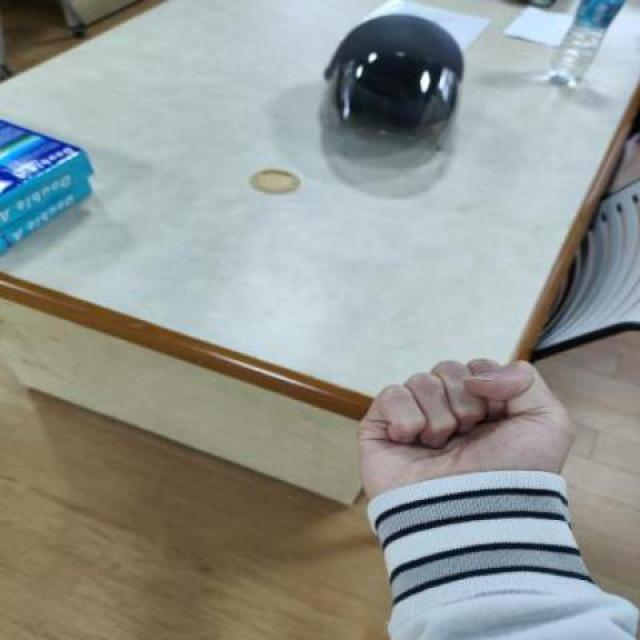Closed Hand: (328, 353, 588, 508)
